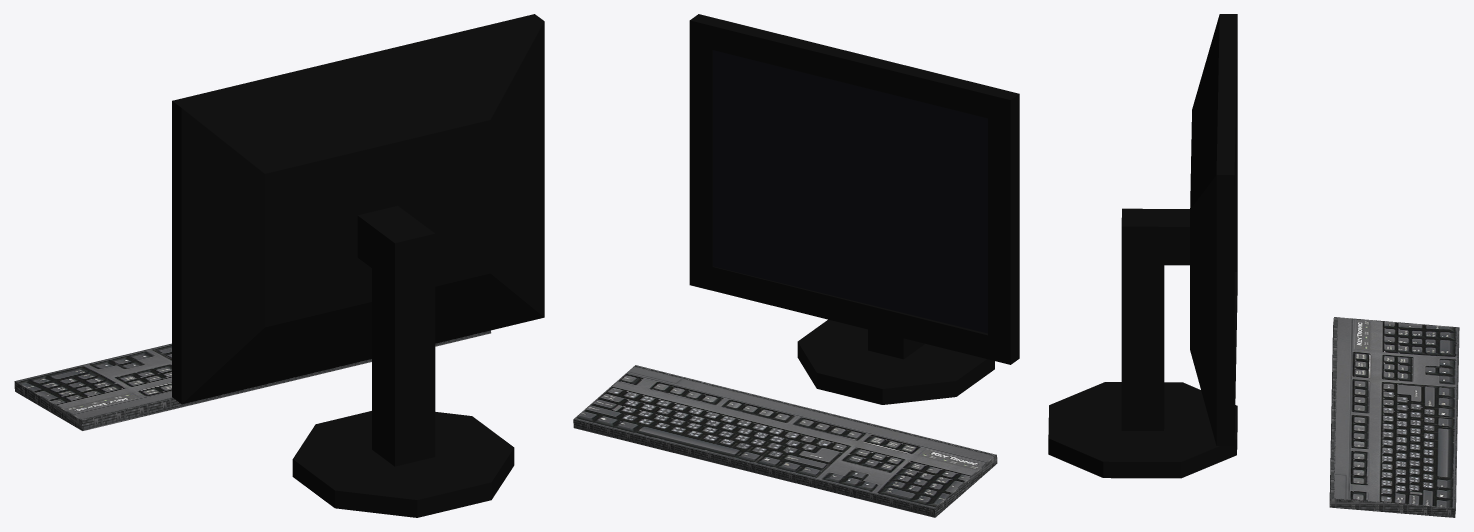
Rendered from Computer@Model.FBX.
3 views of the same model, side by side, from view 1: azimuth 30°, elevation 25°; view 2: azimuth 150°, elevation 25°; view 3: azimuth 270°, elevation 25° (orthographic). The views are drawn at different scales.
Parts seen in each view (by area): view 1: Computer; view 2: Computer, Box001; view 3: Computer.
Part boxes in pixels (x1=…): Computer: x1=14, y1=14, x2=544, y2=517; Computer: x1=573, y1=14, x2=1019, y2=517; Box001: x1=713, y1=50, x2=987, y2=333; Computer: x1=1048, y1=14, x2=1459, y2=517.
Bounding box in the file's own units: 0.4551 × 0.4015 × 0.4348.
4 materials, 1 textured.
